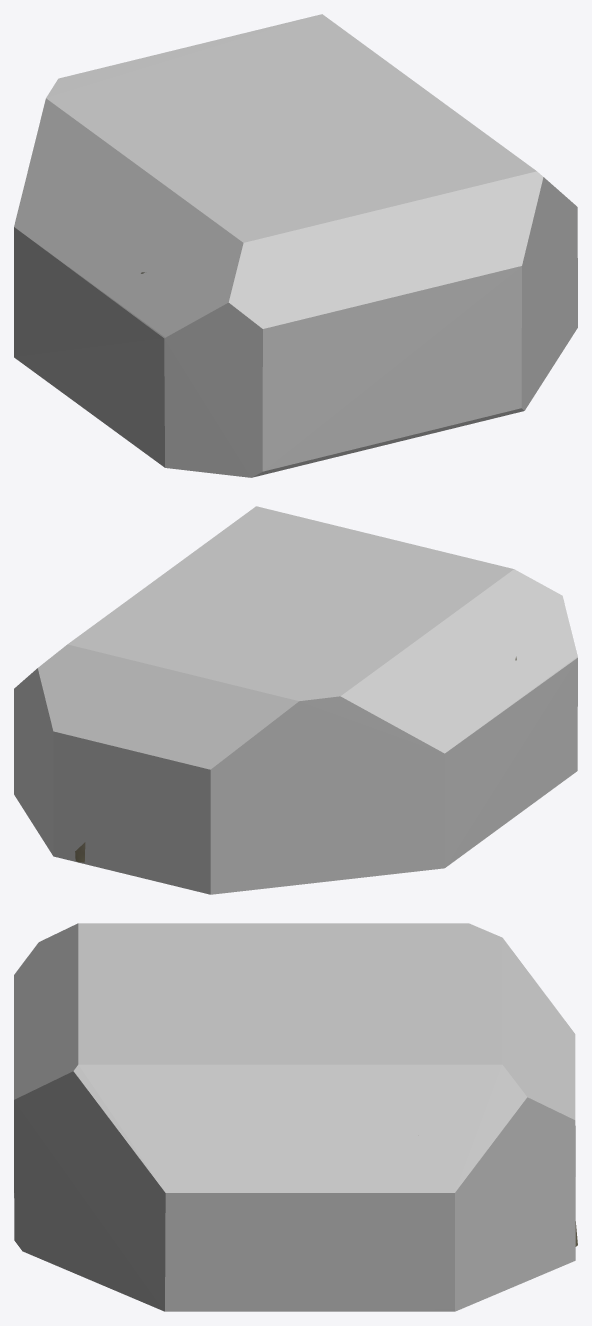
File: SM_Cobble_C.fbx
3 renders of one model, top to bottom at view 1: azimuth 30°, elevation 25°; view 2: azimuth 150°, elevation 25°; view 3: azimuth 270°, elevation 25°, orthographic. The views are drawn at different scales.
Parts seen in each view (by area): view 1: SM_Cobble_C_ConvexHulls; view 2: SM_Cobble_C_ConvexHulls; view 3: SM_Cobble_C_ConvexHulls.
Boxes of the visible parts, left/top/right/bottom form: SM_Cobble_C_ConvexHulls: left=14, top=14, right=577, bottom=477; SM_Cobble_C_ConvexHulls: left=14, top=506, right=577, bottom=894; SM_Cobble_C_ConvexHulls: left=14, top=923, right=575, bottom=1311.
Size of the model in its own units: 48.43 by 52.75 by 21.3.
